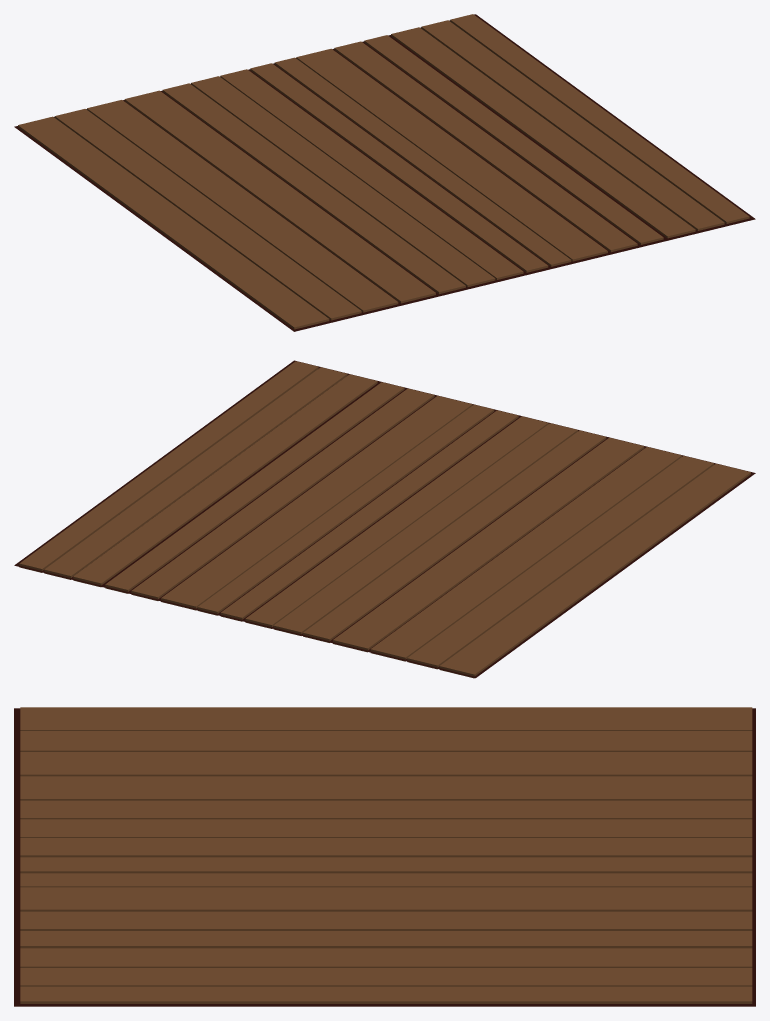
The model's file is Floor wood.fbx.
3 renders of one model, top to bottom at view 1: azimuth 30°, elevation 25°; view 2: azimuth 150°, elevation 25°; view 3: azimuth 270°, elevation 25°, orthographic. The views are drawn at different scales.
Visible parts, largest first — view 1: Floor wood3; view 2: Floor wood3; view 3: Floor wood3.
Part boxes in pixels (x1=…): Floor wood3: x1=14, y1=14, x2=755, y2=331; Floor wood3: x1=14, y1=360, x2=755, y2=678; Floor wood3: x1=14, y1=707, x2=755, y2=1006.
Bounding box in the file's own units: 11.89 × 0.0968 × 12.5.
